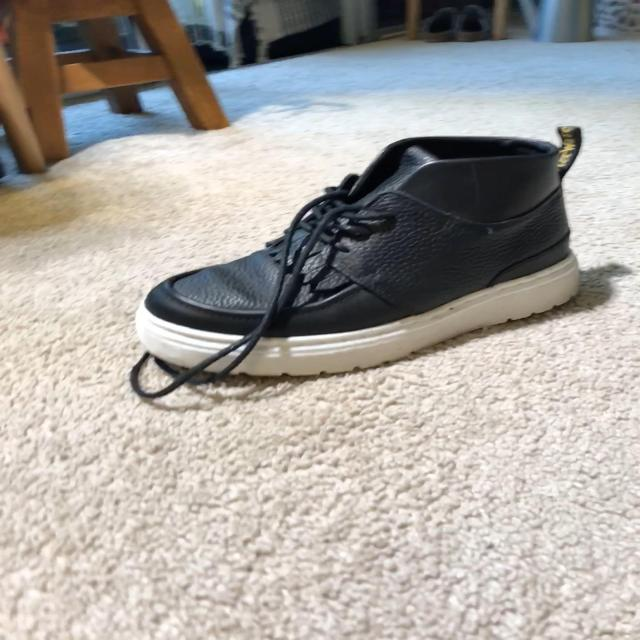shoe: (140, 134, 576, 371)
